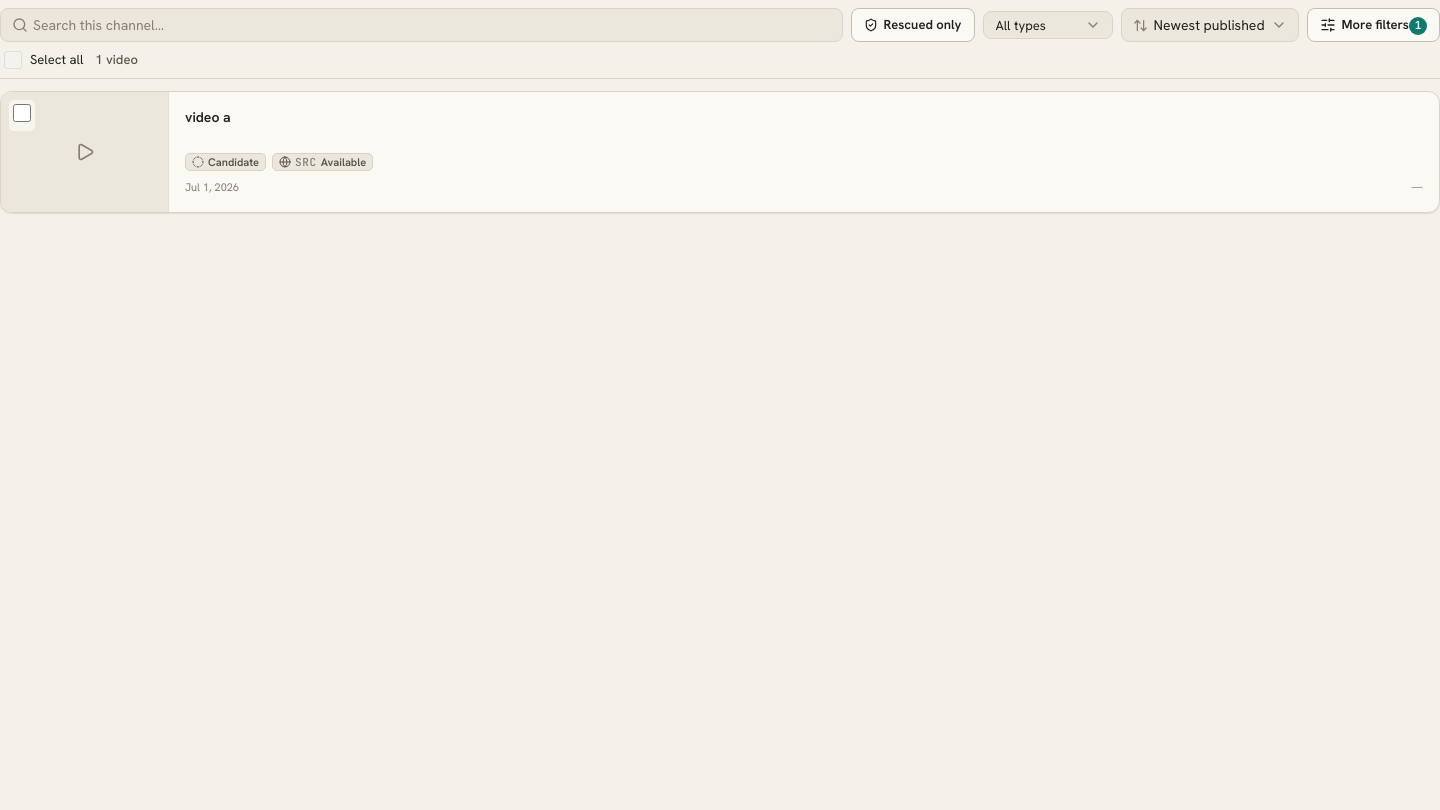
Scenario: VideosBrowser — responsive filter placement + view (F-S3-R1 / S4-M1) › at a narrow width keeps copy/source/date filters behind the More filters drawer
Expected: the field labelled "Copy state" is not shown
Click the button "More filters 1": (1373, 25) [1306, 8, 1439, 42]
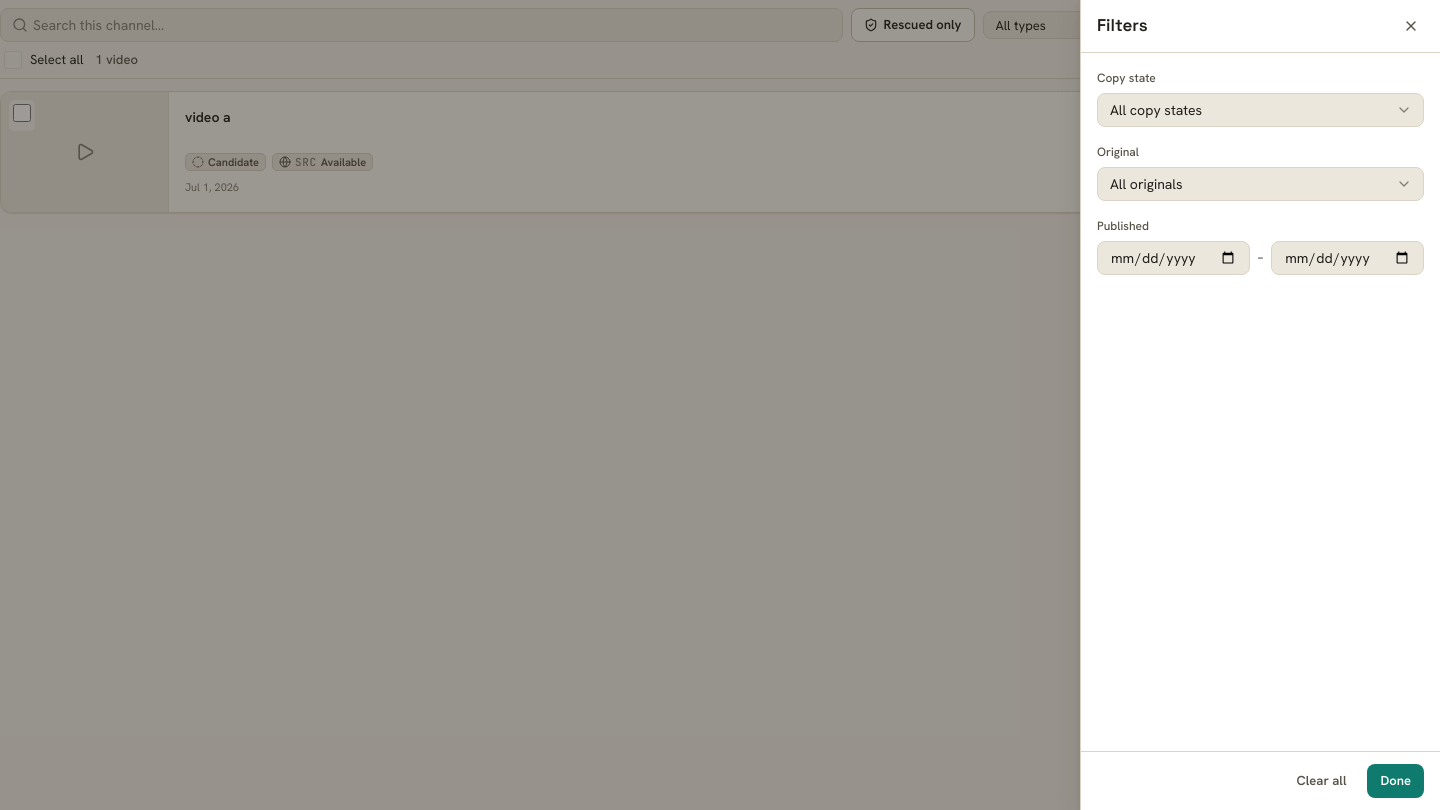
Result: the dropdown labelled "Copy state" is shown at [1097, 93, 1424, 127]
